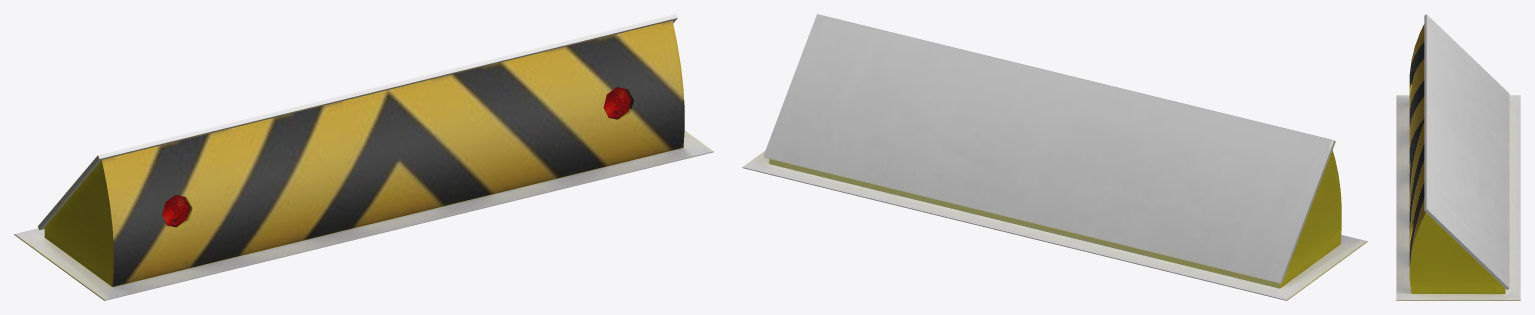
File: RoadBlock.gltf
The picture shows the model from 3 angles, left to right: view 1: azimuth 30°, elevation 25°; view 2: azimuth 150°, elevation 25°; view 3: azimuth 270°, elevation 25°; orthographic projection. The views are drawn at different scales.
Parts seen in each view (by area): view 1: RoadBlock; view 2: RoadBlock; view 3: RoadBlock.
Part boxes in pixels (box(x1,y1,x2,y2)): RoadBlock: box(14, 14, 713, 300); RoadBlock: box(742, 14, 1367, 300); RoadBlock: box(1396, 14, 1520, 300).
Size of the model in its own units: 28.8 by 5.7 by 7.38.
1 material, 1 textured.
